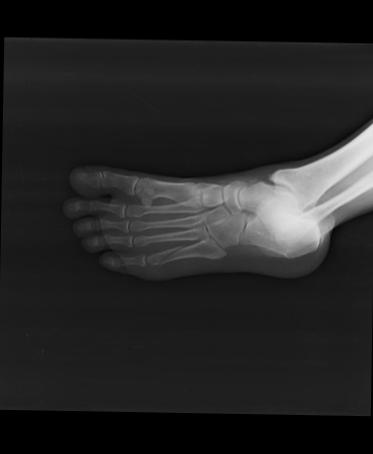fractured: (148, 242, 186, 269)
